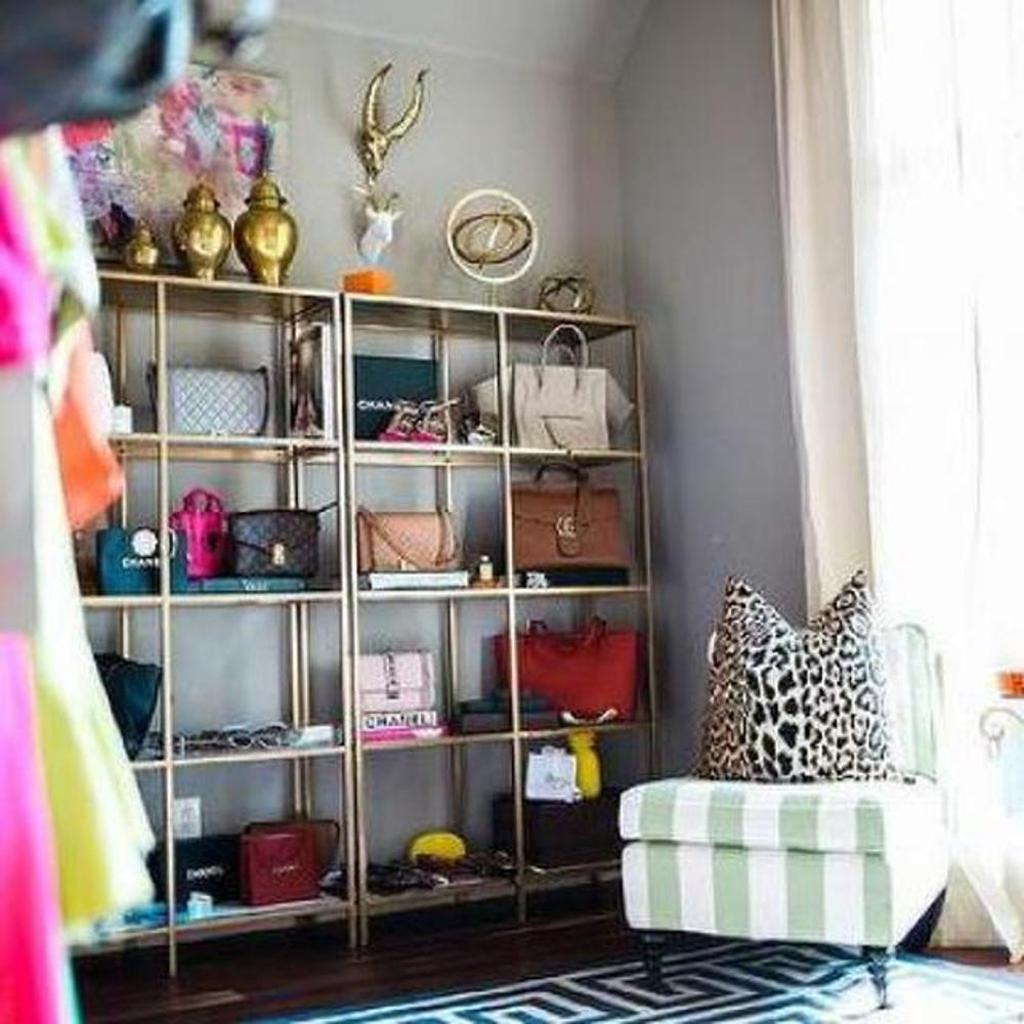lamp: (0, 270, 665, 974)
